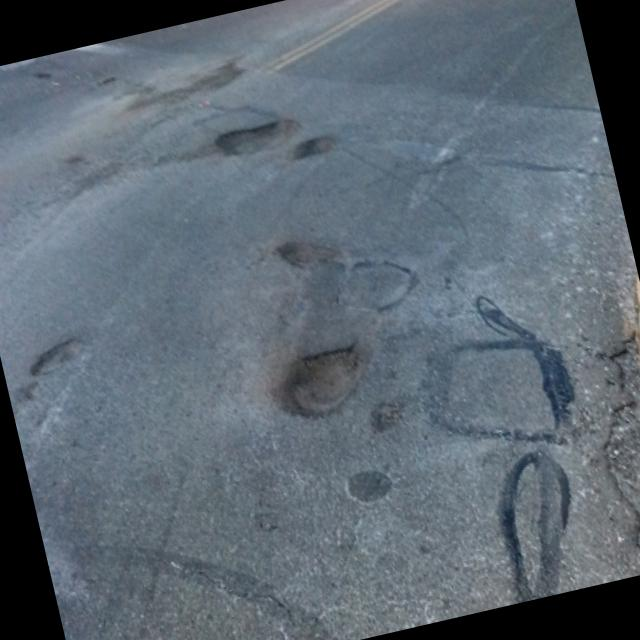Potholes: (260, 325, 389, 448), (0, 331, 111, 408), (262, 202, 346, 286), (207, 109, 299, 168), (278, 120, 349, 172)
